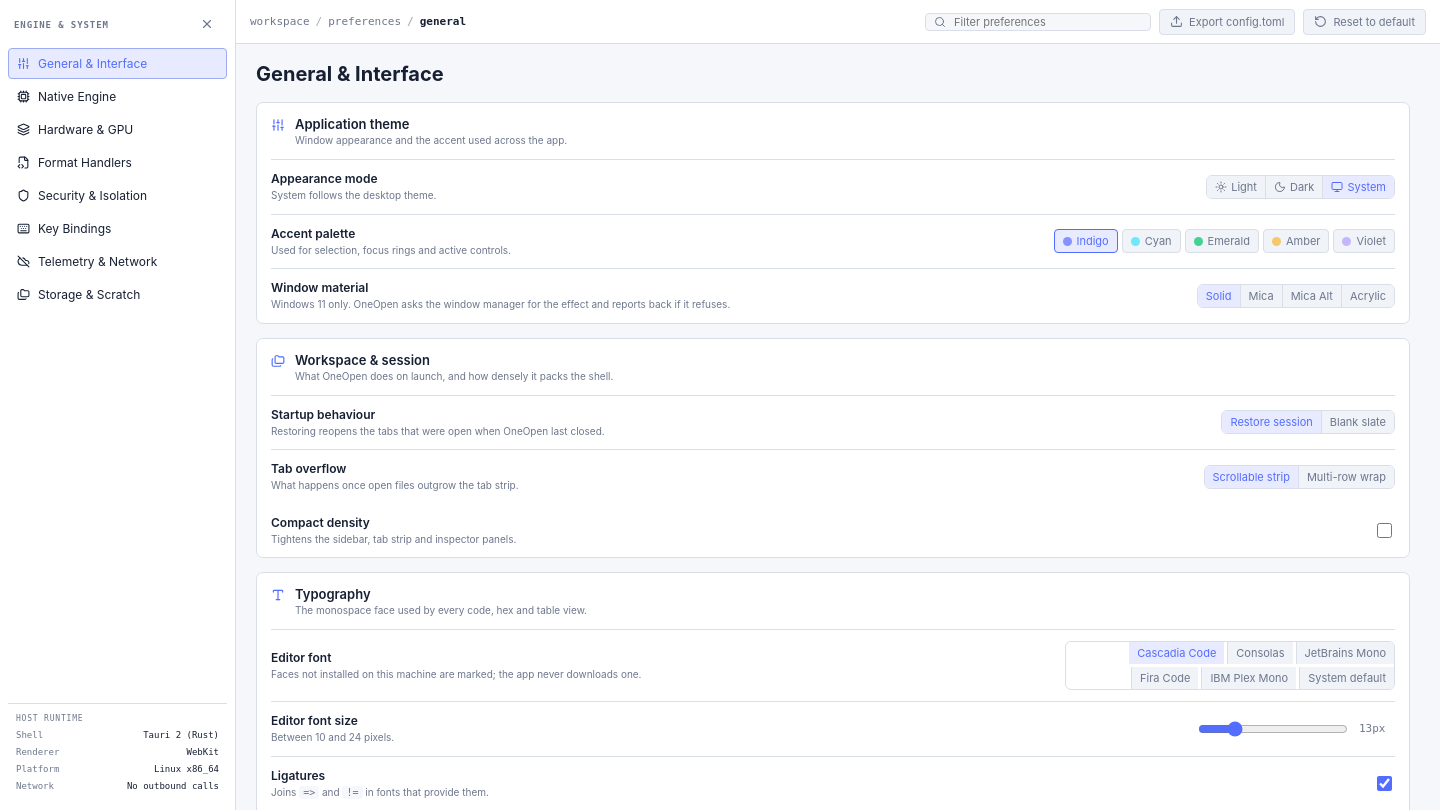
Test: settings page › rolls the UI back when Rust rejects a value
Click the button "Violet". click: coordinates (1364, 241)
box: [1334,229,1395,253]
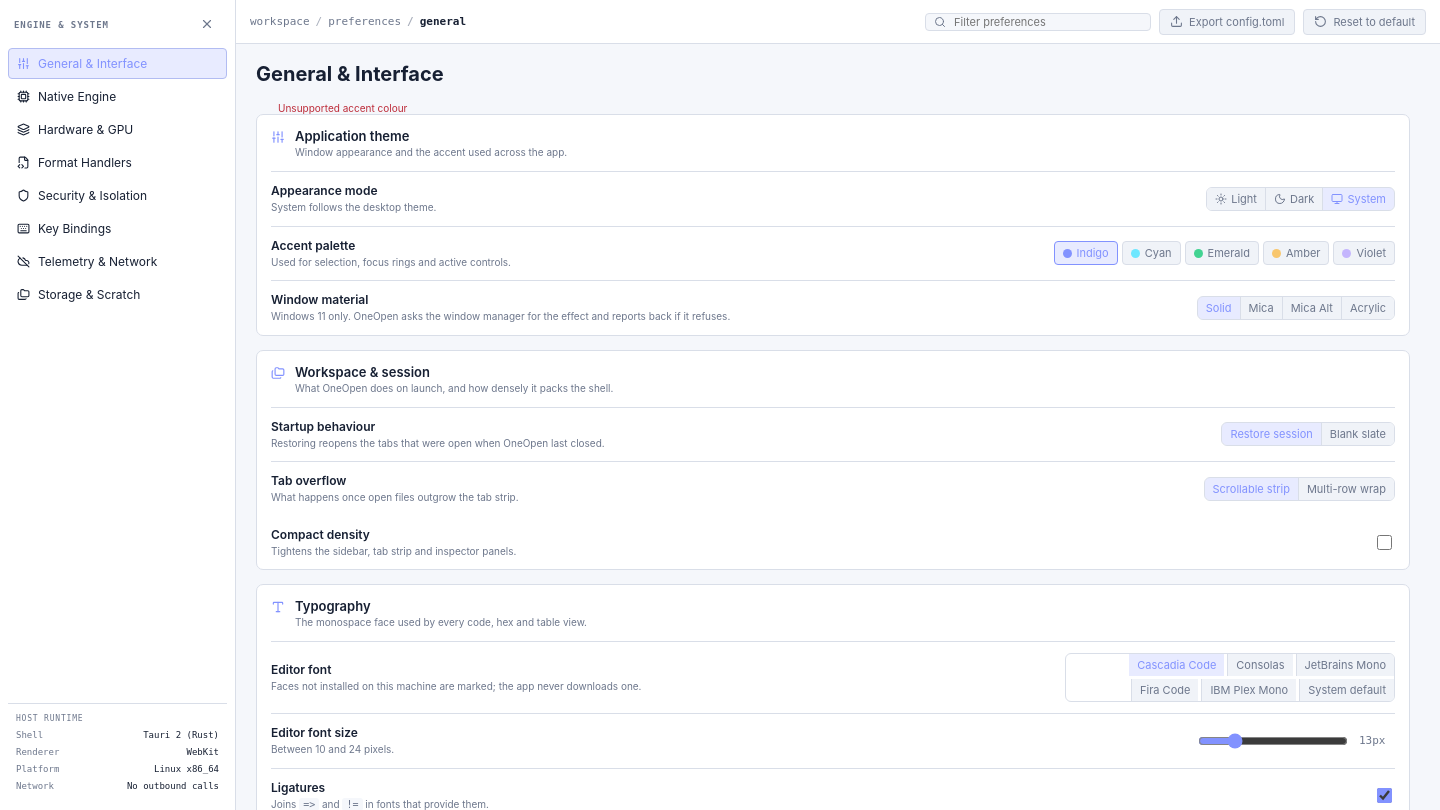
Check: the text "Unsupported accent colour" is shown, box [278,102,407,114]
